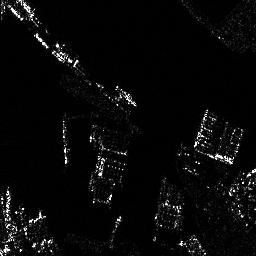ship: (115, 85, 135, 106), (61, 119, 68, 165)
